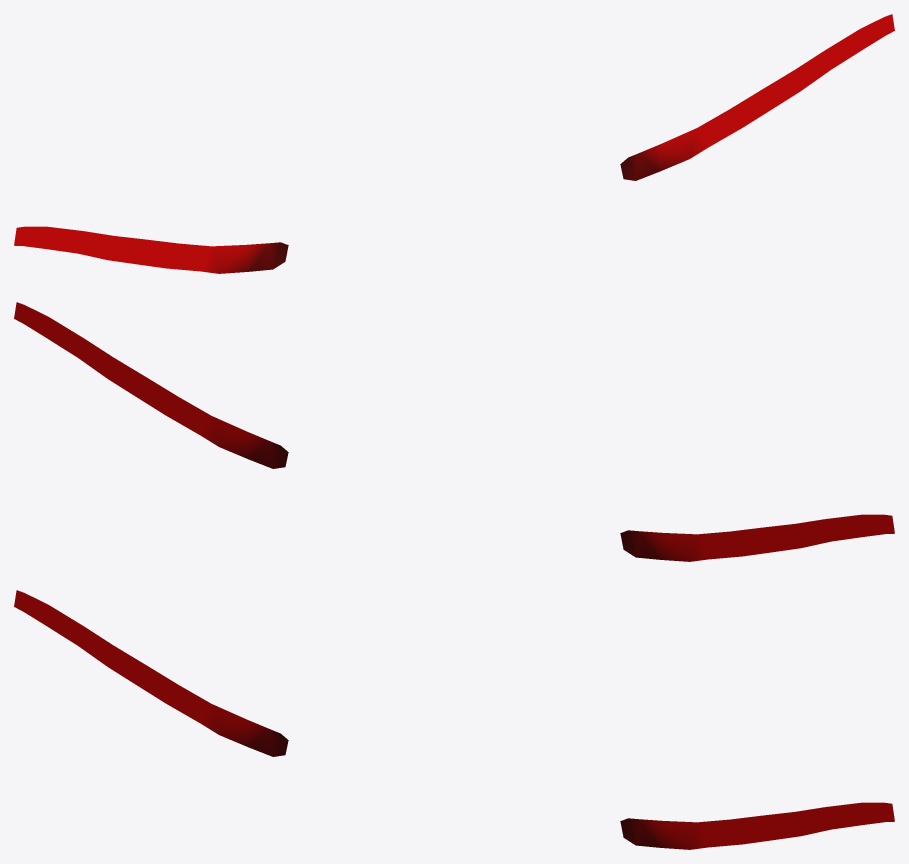
Rendered from frame183.fbx.
The picture shows the model from 3 angles, top to bottom: view 1: azimuth 30°, elevation 25°; view 2: azimuth 150°, elevation 25°; view 3: azimuth 330°, elevation 25°; orthographic projection.
Visible parts, largest first — view 1: MaterialLayer; view 2: MaterialLayer; view 3: MaterialLayer.
Boxes of the visible parts, left/top/right/bottom form: MaterialLayer: left=14, top=14, right=894, bottom=273; MaterialLayer: left=14, top=302, right=894, bottom=561; MaterialLayer: left=14, top=590, right=894, bottom=849.
Bounding box in the file's own units: 1544 × 175 × 0.
